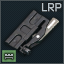Aimpoint LRP mount for COMP M4 sights: (0, 0, 64, 64)
